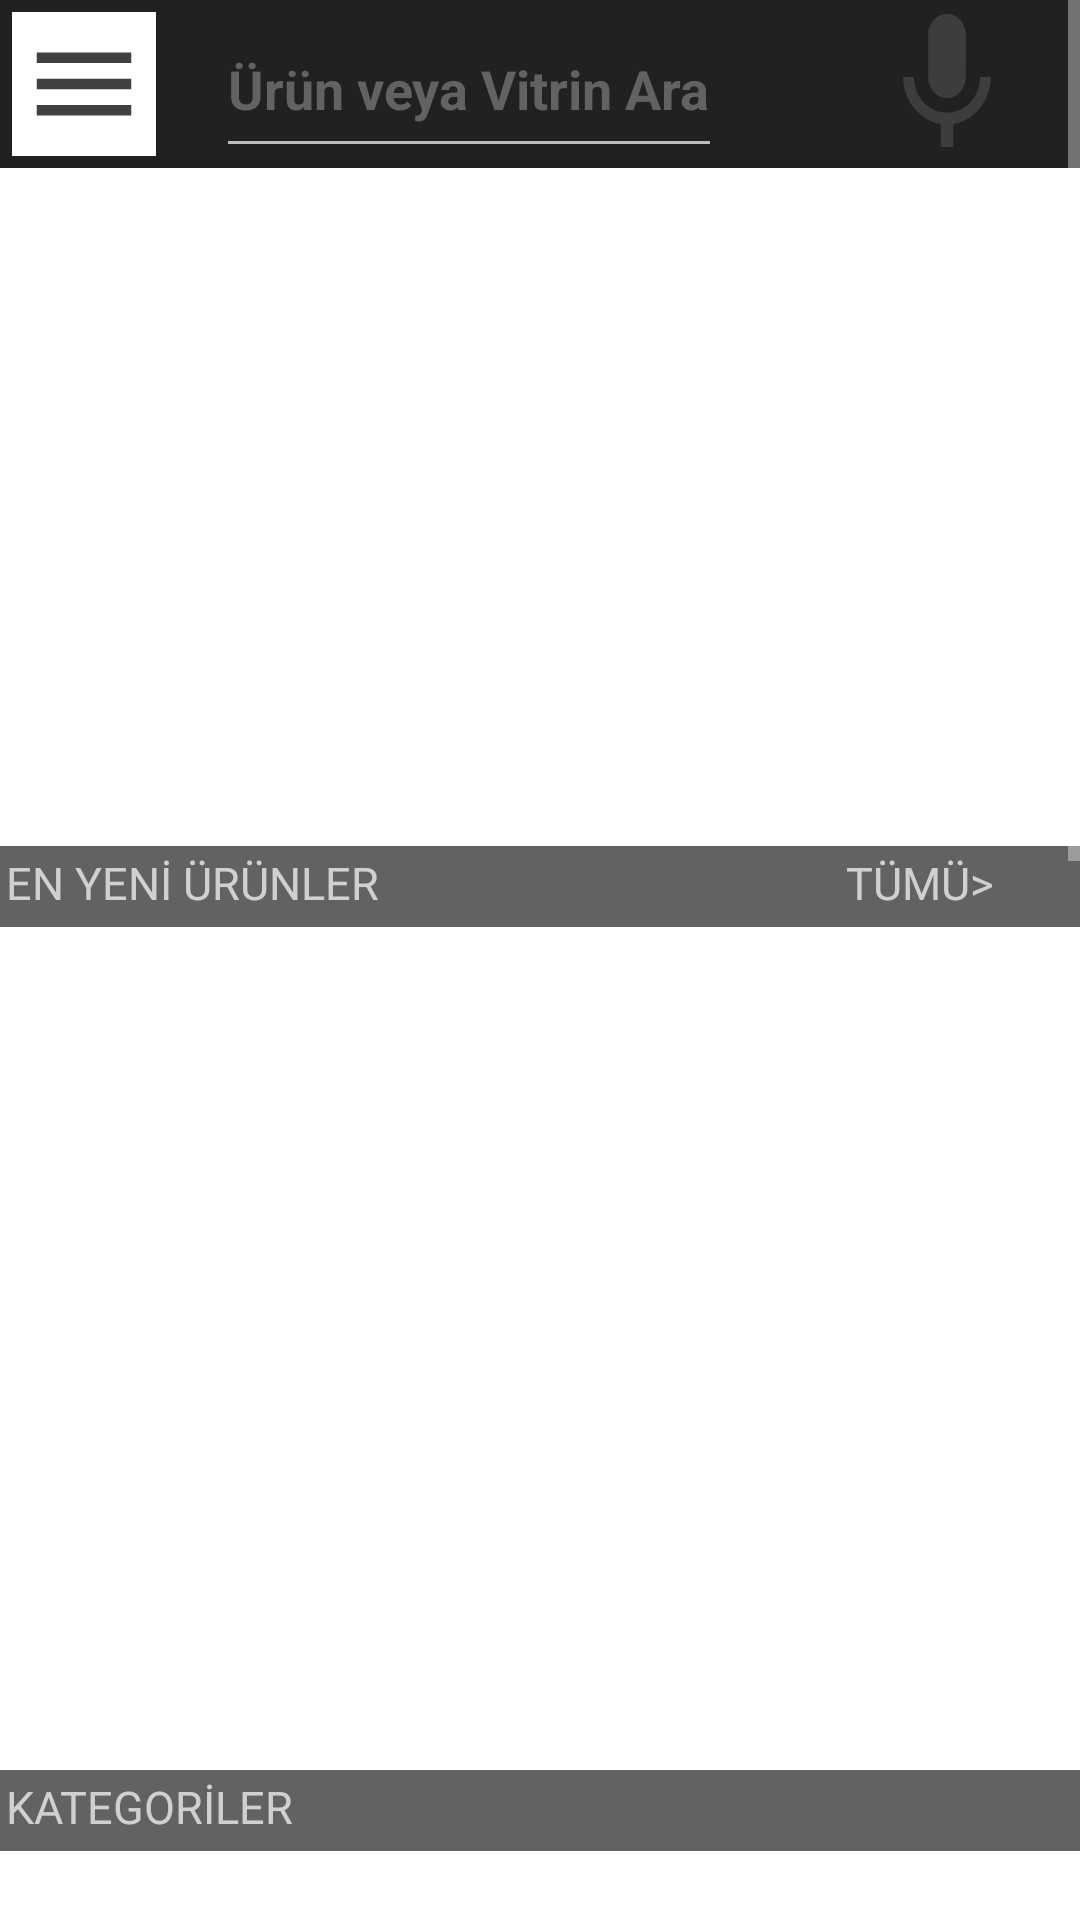

Icons on this 1080 x 1920 Android screen, each with its box as [x1, y1, x2, y2]:
mic: [904, 14, 990, 147]
